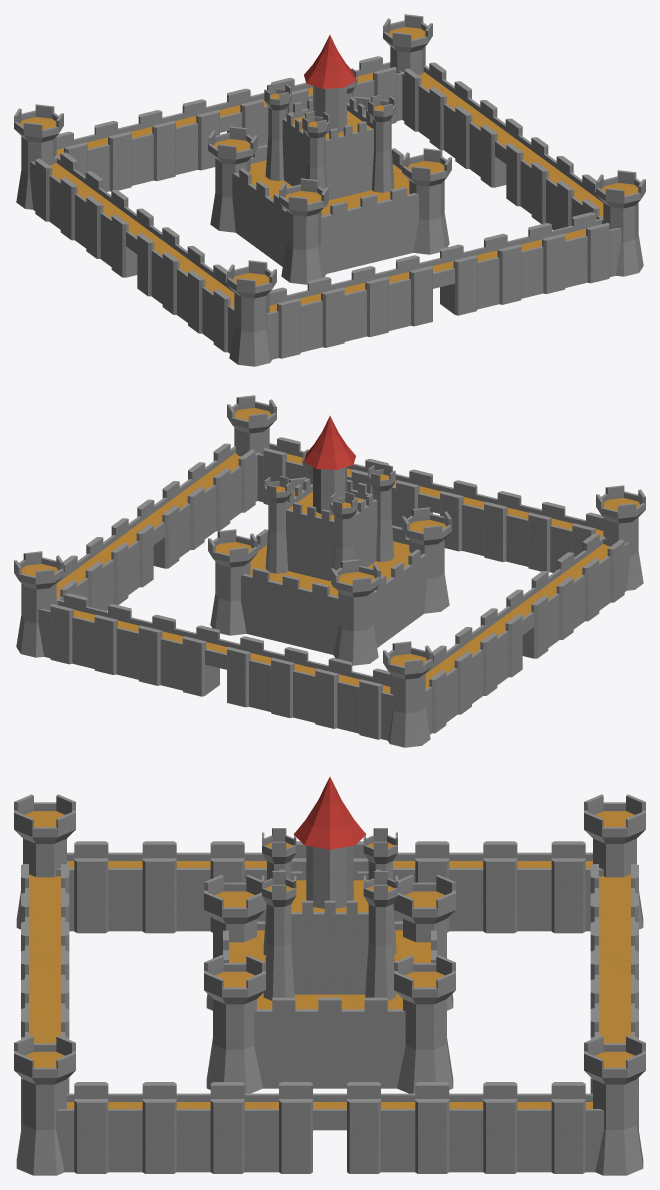
The model's file is Castle Export 2.obj.
3 views of the same model, one above another, from view 1: azimuth 30°, elevation 25°; view 2: azimuth 150°, elevation 25°; view 3: azimuth 270°, elevation 25° (orthographic). The views are drawn at different scales.
Parts seen in each view (by area): view 1: group1 Castle_Wall_UV1, group1 Keep_UV1, group1 Castle_Wall_UV3, group1 Castle_Wall_UV2, Castle_Wall_UV group1, group1 Corner_Tower_UV7, group1 Corner_Tower_UV1, group1 Corner_Tower_UV6, group1 Corner_Tower_UV2, group1 Corner_Tower_UV4, group1 Corner_Tower_UV, group1 Corner_Tower_UV3 (+3 smaller); view 2: Castle_Wall_UV group1, group1 Keep_UV1, group1 Castle_Wall_UV3, group1 Castle_Wall_UV2, group1 Castle_Wall_UV1, group1 Corner_Tower_UV4, group1 Corner_Tower_UV, group1 Corner_Tower_UV5, group1 Corner_Tower_UV3, group1 Corner_Tower_UV7, group1 Corner_Tower_UV1, group1 Corner_Tower_UV2 (+3 smaller); view 3: group1 Castle_Wall_UV2, group1 Castle_Wall_UV3, group1 Keep_UV1, Castle_Wall_UV group1, group1 Castle_Wall_UV1, group1 Corner_Tower_UV5, group1 Corner_Tower_UV6, group1 Corner_Tower_UV3, group1 Corner_Tower_UV2, group1 Corner_Tower_UV, group1 Corner_Tower_UV1, group1 Keep_Corner_Tower2 (+5 smaller).
Boxes of the visible parts, bbox=[...] form: group1 Castle_Wall_UV1: bbox=[266, 212, 621, 359]; group1 Keep_UV1: bbox=[232, 35, 418, 273]; group1 Castle_Wall_UV3: bbox=[30, 152, 234, 353]; group1 Castle_Wall_UV2: bbox=[399, 62, 603, 230]; Castle_Wall_UV group1: bbox=[53, 56, 404, 191]; group1 Corner_Tower_UV7: bbox=[279, 178, 328, 284]; group1 Corner_Tower_UV1: bbox=[227, 260, 276, 366]; group1 Corner_Tower_UV6: bbox=[402, 148, 451, 254]; group1 Corner_Tower_UV2: bbox=[596, 170, 645, 276]; group1 Corner_Tower_UV4: bbox=[208, 126, 257, 232]; group1 Corner_Tower_UV: bbox=[14, 104, 63, 209]; group1 Corner_Tower_UV3: bbox=[383, 14, 432, 75]; Castle_Wall_UV group1: bbox=[38, 593, 393, 740]; group1 Keep_UV1: bbox=[241, 416, 427, 654]; group1 Castle_Wall_UV3: bbox=[425, 533, 629, 734]; group1 Castle_Wall_UV2: bbox=[56, 443, 260, 611]; group1 Castle_Wall_UV1: bbox=[256, 437, 606, 572]; group1 Corner_Tower_UV4: bbox=[331, 559, 380, 665]; group1 Corner_Tower_UV: bbox=[383, 641, 432, 747]; group1 Corner_Tower_UV5: bbox=[208, 529, 257, 635]; group1 Corner_Tower_UV3: bbox=[14, 551, 63, 657]; group1 Corner_Tower_UV7: bbox=[402, 507, 451, 613]; group1 Corner_Tower_UV1: bbox=[596, 485, 645, 590]; group1 Corner_Tower_UV2: bbox=[227, 395, 276, 456]; group1 Castle_Wall_UV2: bbox=[56, 1082, 603, 1173]; group1 Castle_Wall_UV3: bbox=[56, 841, 603, 933]; group1 Keep_UV1: bbox=[223, 777, 436, 1088]; Castle_Wall_UV group1: bbox=[590, 864, 638, 1129]; group1 Castle_Wall_UV1: bbox=[21, 864, 69, 1129]; group1 Corner_Tower_UV5: bbox=[394, 955, 455, 1093]; group1 Corner_Tower_UV6: bbox=[204, 955, 265, 1093]; group1 Corner_Tower_UV3: bbox=[584, 1035, 645, 1175]; group1 Corner_Tower_UV2: bbox=[14, 1035, 75, 1175]; group1 Corner_Tower_UV: bbox=[584, 794, 645, 929]; group1 Corner_Tower_UV1: bbox=[14, 794, 75, 929]; group1 Keep_Corner_Tower2: bbox=[262, 871, 296, 1000].
Size of the model in its own units: 70.59 by 32.92 by 70.59.
3 materials, 3 textured.
